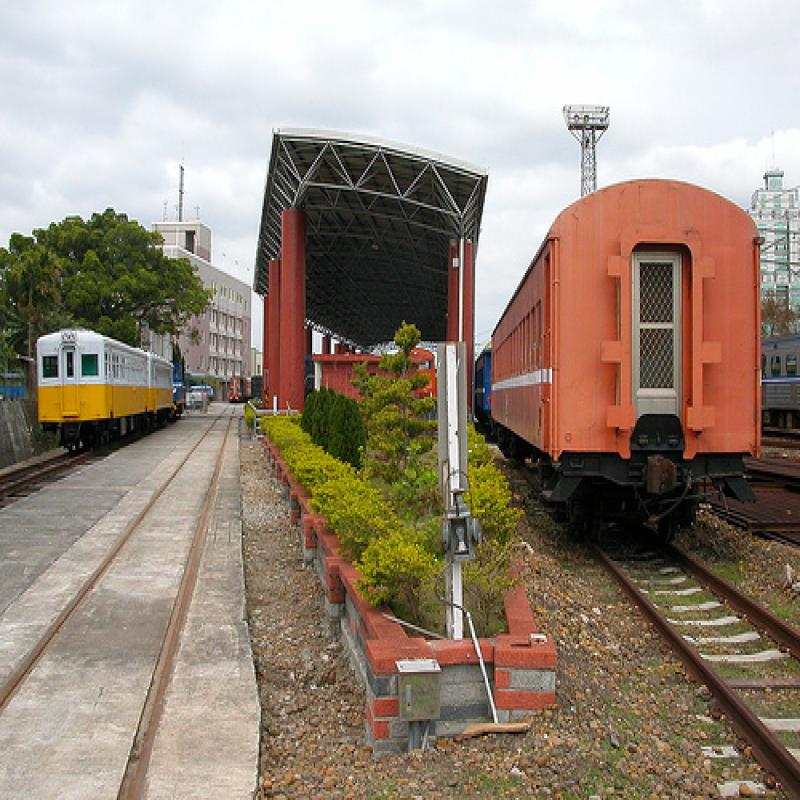train: (478, 180, 764, 545), (38, 330, 177, 453)
